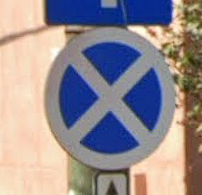oprirea_interzisa: (44, 29, 175, 170)
